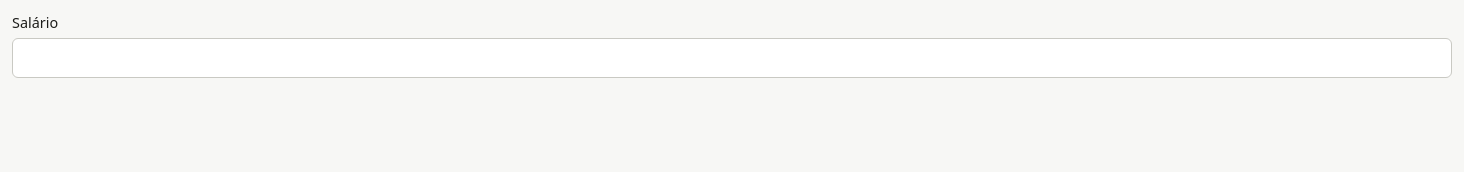
Test: NumberField › texto inválido mostra erro e limpa o valor (nada antigo fica na tela)
Type "50000" into the field labelled "Salário". click: (732, 58)
box: x1=12 y1=38 x2=1452 y2=78
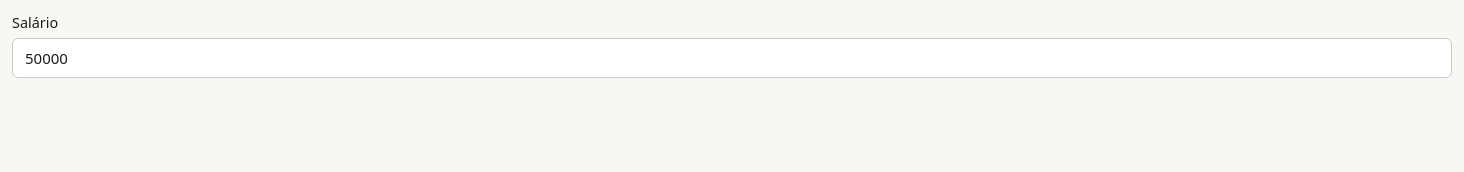
Replace the text in the field labelled "Salário" with "50k". click: (732, 58)
box: x1=12 y1=38 x2=1452 y2=78
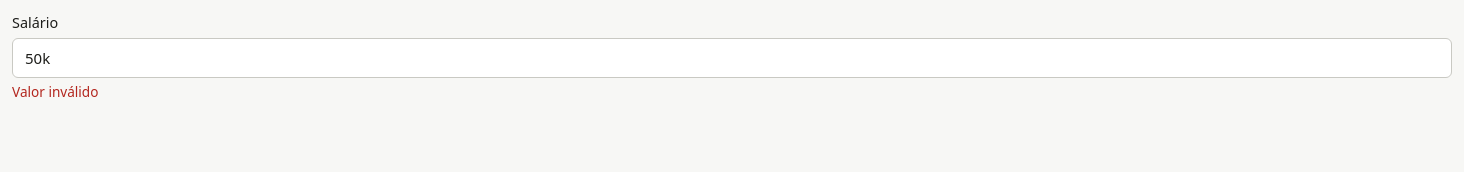
Expected: the text "Valor inválido" is shown, x1=12 y1=82 x2=98 y2=101
